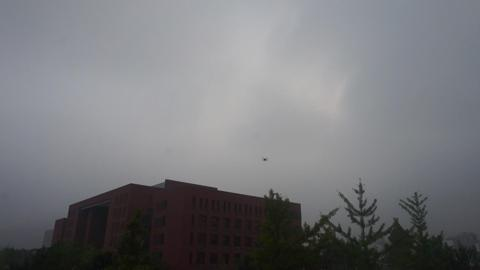UAV: (262, 157, 269, 162)
